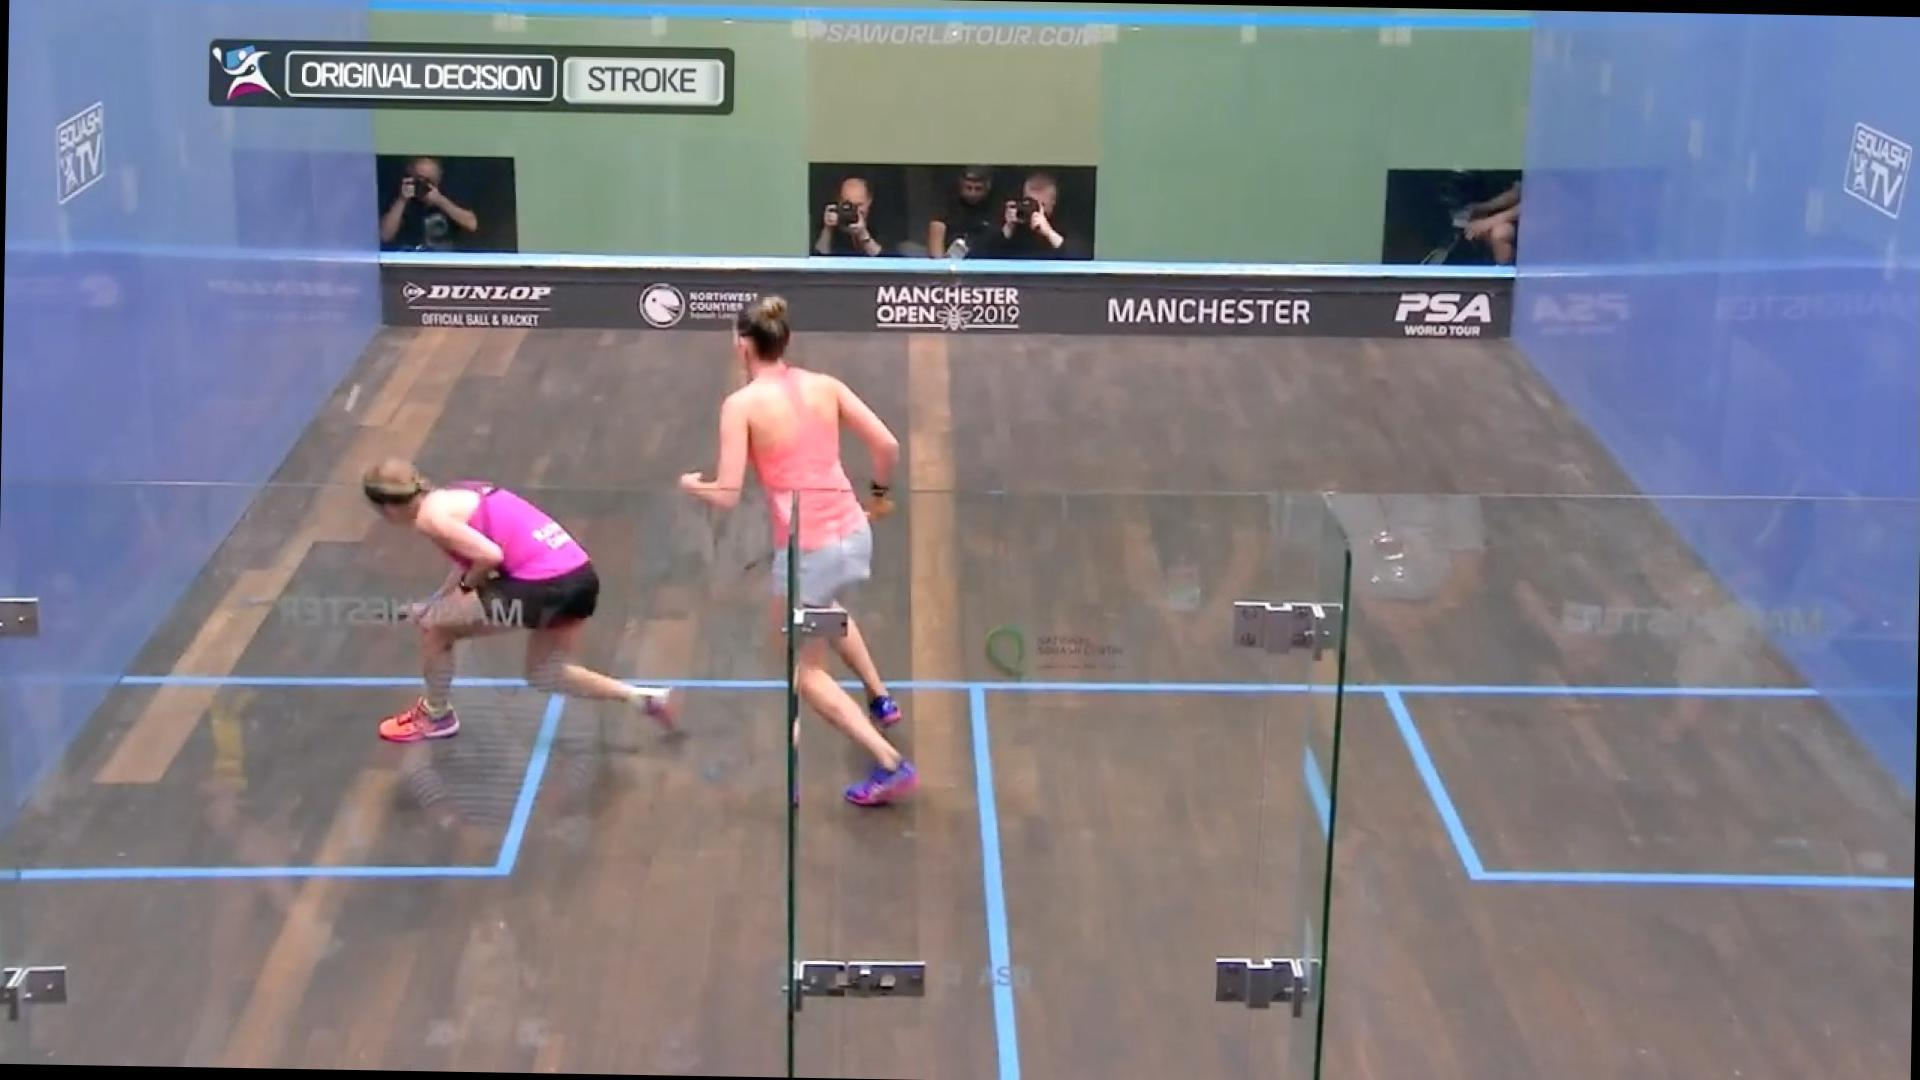Squash-Ball: (335, 367, 385, 433)
